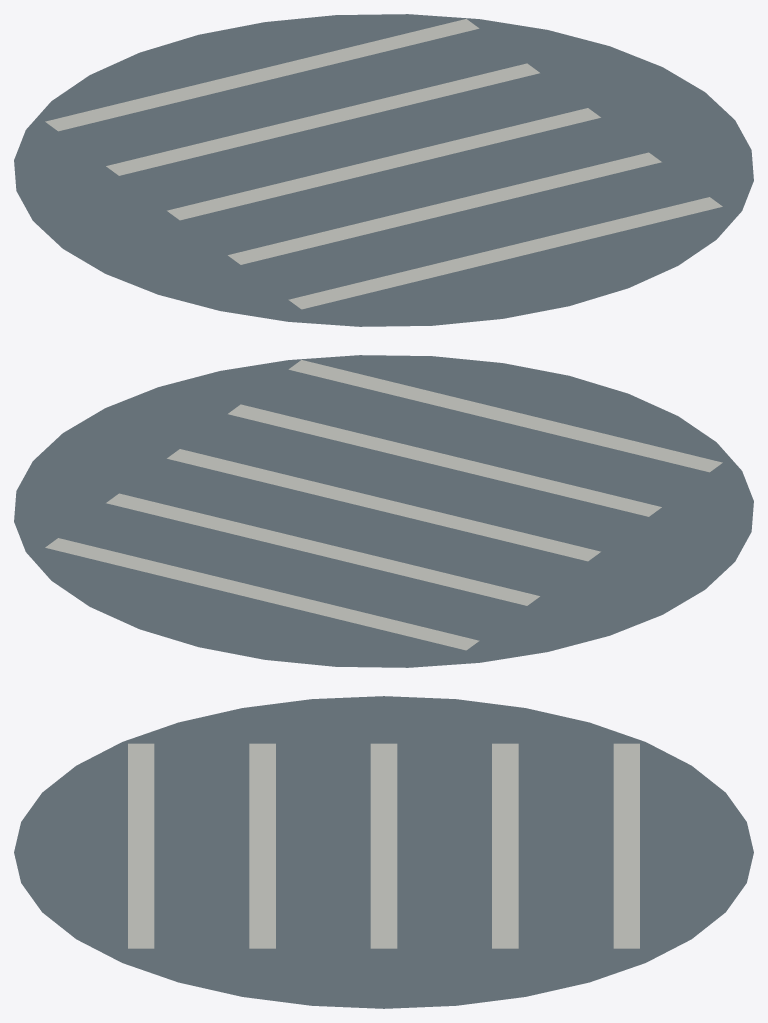
File: q01-manhole.glb
3 renders of one model, top to bottom at view 1: azimuth 30°, elevation 25°; view 2: azimuth 150°, elevation 25°; view 3: azimuth 270°, elevation 25°, orthographic.
Size of the model in its own units: 0.64 by 0.006 by 0.64.
